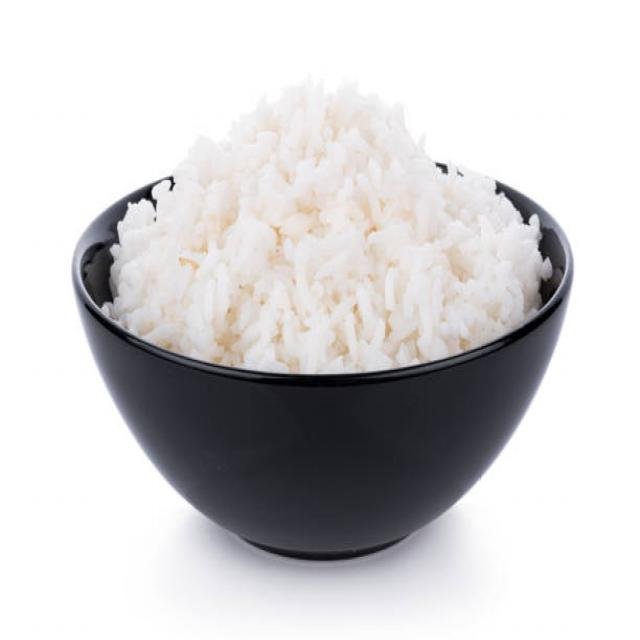Rice: (95, 75, 570, 378)
